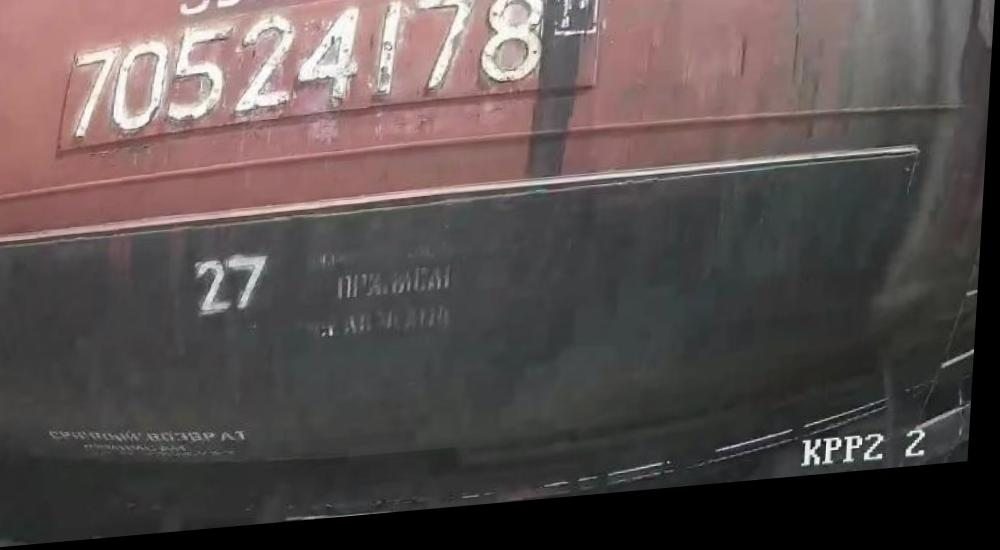Wagon-number: (67, 0, 555, 149)
